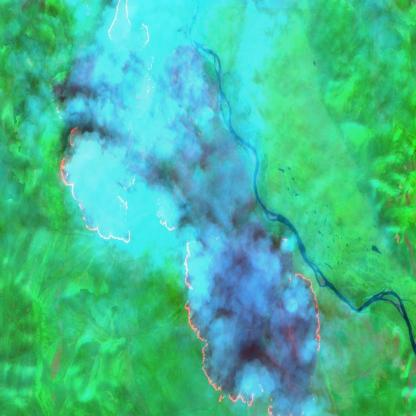fire: (55, 0, 323, 416)
